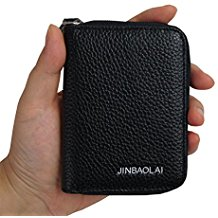monedero: (61, 18, 191, 195)
